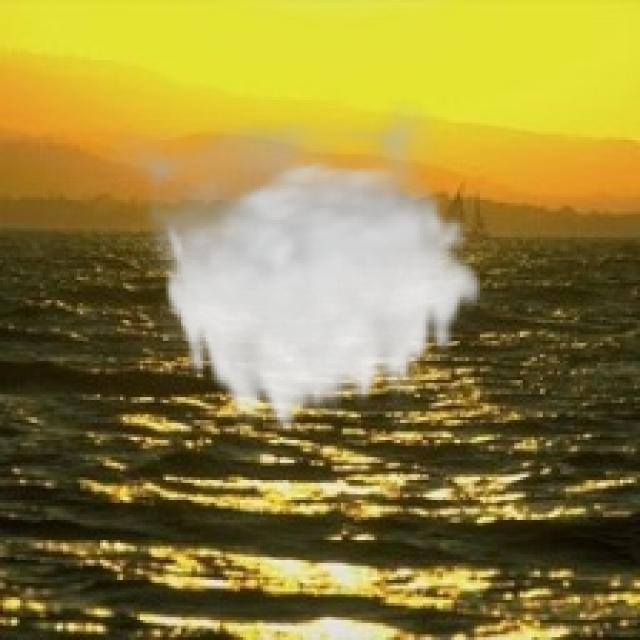Smoke: (94, 94, 486, 440)
